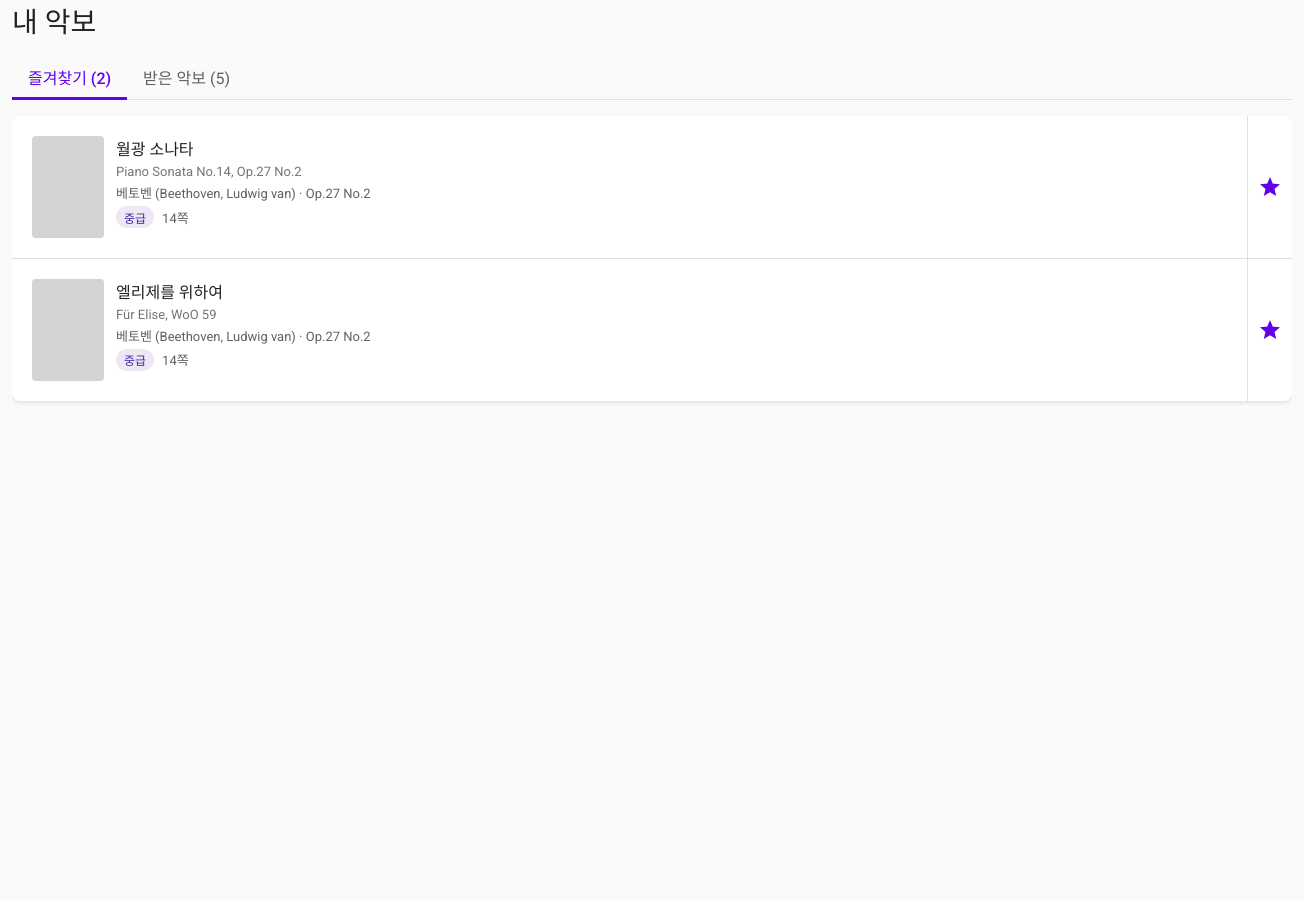
Scenario: 즐겨찾기 탭 — 목록과 해제 (8-C 3·4) › 해제하면 '즐겨찾기에서 뺐어요' + 되돌리기, 되돌리면 제자리로 돌아온다 (09 §1-1-2)
Step 1. Click the button named "즐겨찾기 해제" in the row of "Piano Sonata No.14, Op.27 No.2" → click(1270, 187), box [1248,165,1292,209]
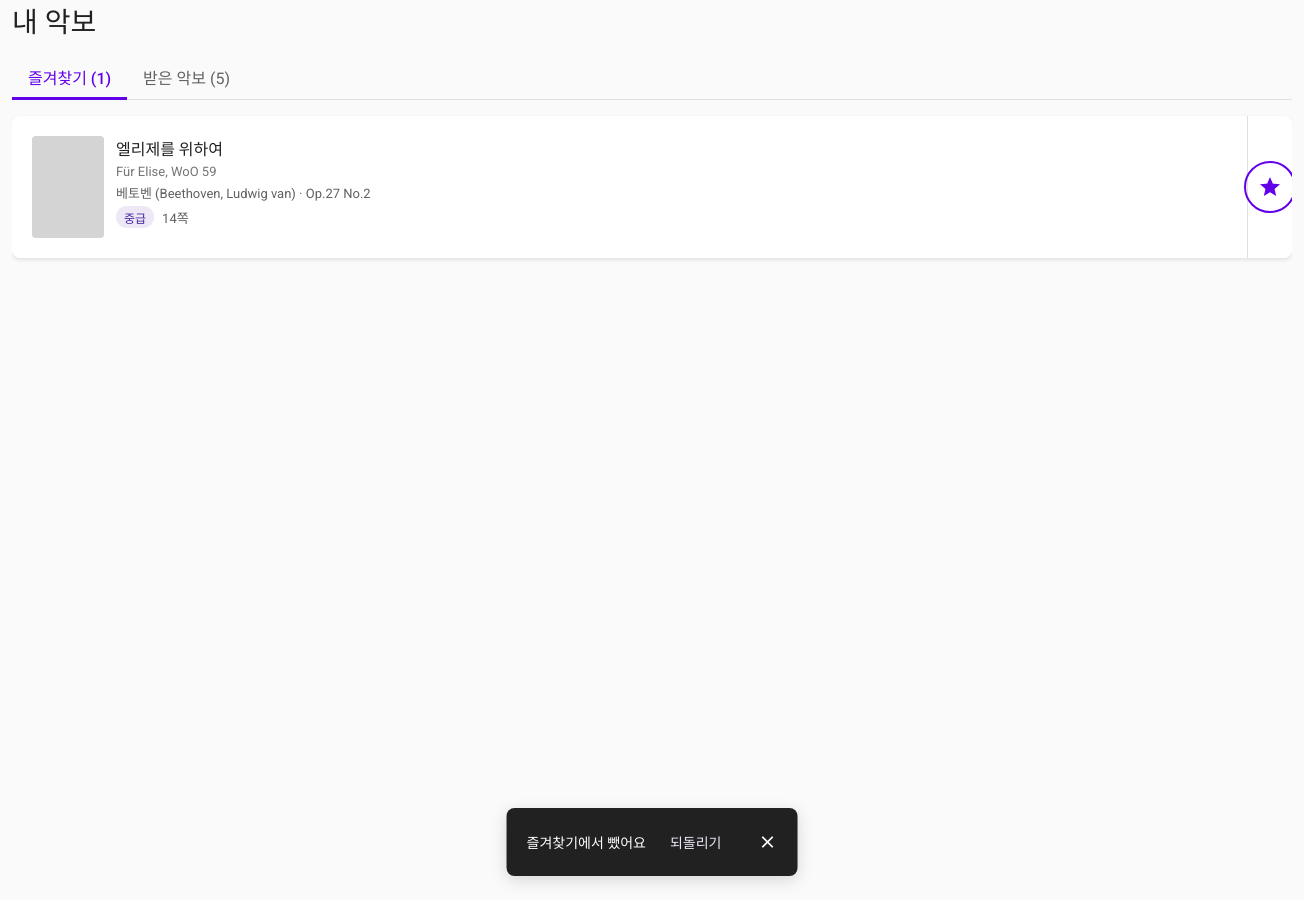
Now the text "즐겨찾기에서 뺐어요" is shown, box [526,832,646,852]
Step 2. Click the button "되돌리기" → click(696, 842), box [658,820,733,864]
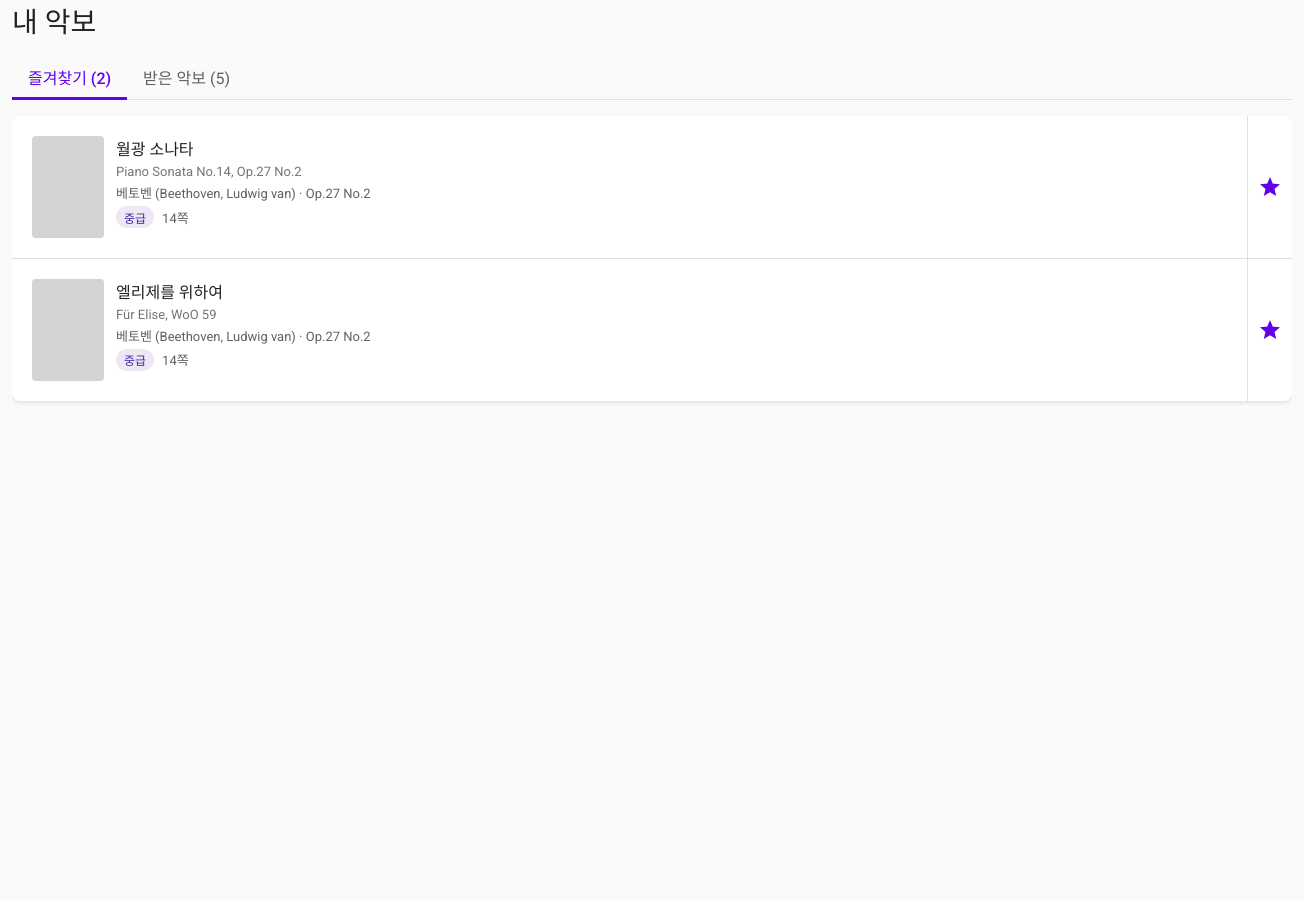
Now the text "월광 소나타" is shown, box [116,136,194,160]
Now the text "즐겨찾기 (2)" is shown, box [12,56,127,100]
